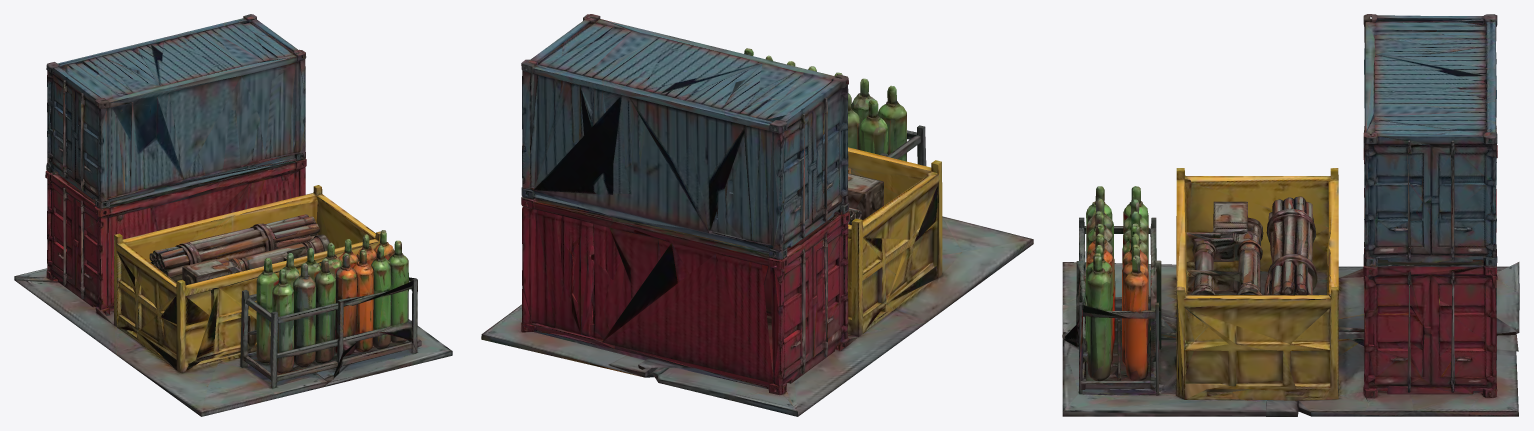
The model's file is deck_containers.glb.
3 renders of one model, left to right at view 1: azimuth 30°, elevation 25°; view 2: azimuth 150°, elevation 25°; view 3: azimuth 270°, elevation 25°, orthographic. The views are drawn at different scales.
Size of the model in its own units: 1.48 by 1.22 by 1.9.
Materials: 1 (1 with a texture image).
